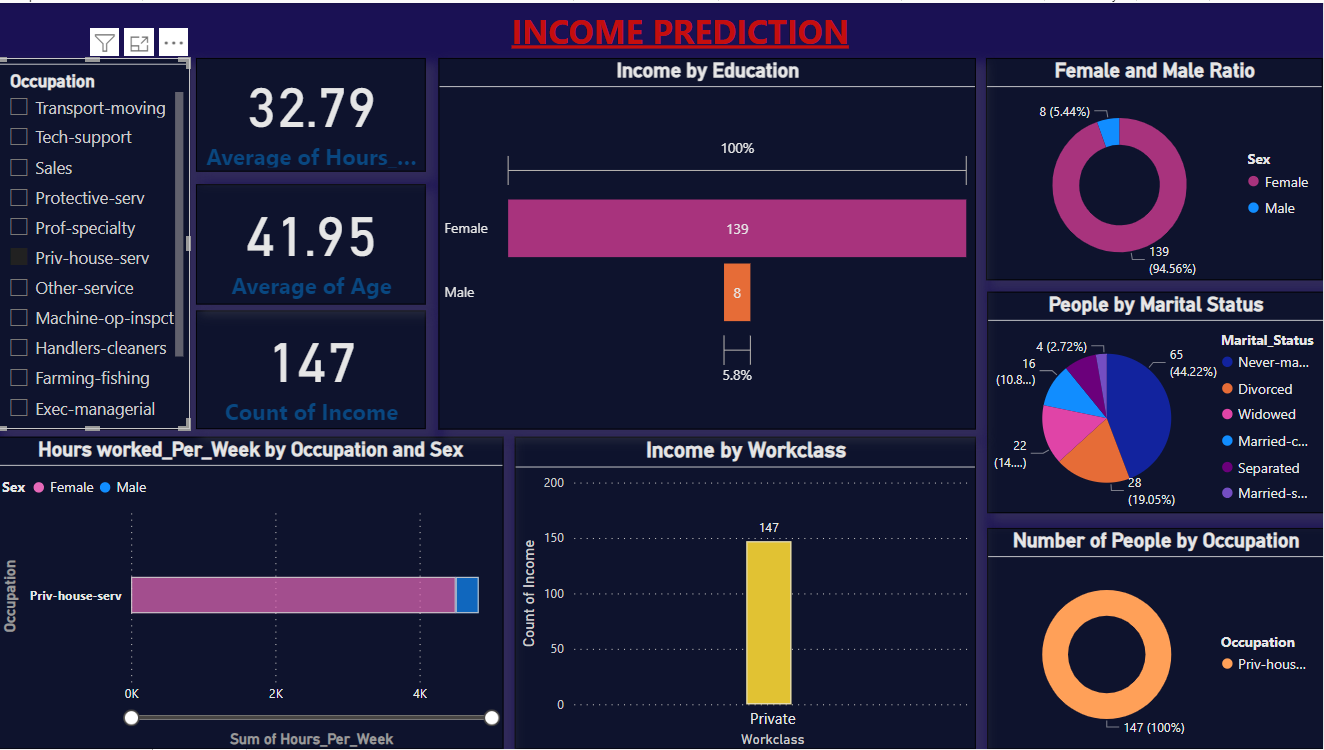

The page's visual inventory and layout, read from the dashboard file:
{"tool":"powerbi","page":{"name":"Page 1","canvas":[1280,720],"ordinal":0},"visuals":[{"type":"textbox","box":[0,0,1280.3,53.5],"z":0},{"type":"donutChart","title":"Number of People by Occupation","fields":{"Y":["CountNonNull(INCOME_DATA.Sex)"],"Category":["INCOME_DATA.Occupation"]},"box":[956.4,506.5,324.4,213.5],"z":1000},{"type":"donutChart","title":" Female and Male Ratio","fields":{"Y":["CountNonNull(INCOME_DATA.Sex)"],"Category":["INCOME_DATA.Sex"]},"box":[955.2,53.1,324.4,214.7],"z":2000},{"type":"pieChart","title":"People by  Marital Status","fields":{"Y":["CountNonNull(INCOME_DATA.Sex)"],"Category":["INCOME_DATA.Marital_Status"]},"box":[956.4,278.6,324.4,213.5],"z":3000},{"type":"columnChart","title":" Income by Workclass","fields":{"Y":["CountNonNull(INCOME_DATA.Income)"],"Category":["INCOME_DATA.Workclass"]},"box":[500.5,418.5,445,301.5],"z":3001},{"type":"slicer","fields":{"Values":["INCOME_DATA.Occupation"]},"box":[0,53.1,186.9,358.2],"z":3002},{"type":"barChart","title":" Hours worked_Per_Week by Occupation and Sex","fields":{"Series":["INCOME_DATA.Sex"],"Category":["INCOME_DATA.Occupation"],"Y":["Sum(INCOME_DATA.Hours_Per_Week)"]},"box":[0,418.5,489.6,301.5],"z":3003},{"type":"card","fields":{"Values":["CountNonNull(INCOME_DATA.Income)"]},"box":[193,296.7,221.9,114.6],"z":3004},{"type":"card","fields":{"Values":["Avg(INCOME_DATA.Age)"]},"box":[193,174.9,221.9,115.8],"z":3005},{"type":"card","fields":{"Values":["Avg(INCOME_DATA.Hours_Per_Week)"]},"box":[193,53.1,221.9,109.7],"z":3006},{"type":"funnel","title":" Income by Education","fields":{"Category":["INCOME_DATA.Education","INCOME_DATA.Occupation","INCOME_DATA.Sex"],"Y":["CountNonNull(INCOME_DATA.Income)"]},"box":[426.9,53.1,518.6,358.2],"z":3007}]}

Visuals, with their boxes on the page's 1280x720 design canvas (x1, y1, x2, y2). These are canvas units, not pixel positions in the 1324x750 screenshot, which may show the page scaled, cropped or inside an application window:
textbox: <region>0, 0, 1280, 54</region>
"Number of People by Occupation" donutChart: <region>956, 506, 1281, 720</region>
" Female and Male Ratio" donutChart: <region>955, 53, 1280, 268</region>
"People by  Marital Status" pieChart: <region>956, 279, 1281, 492</region>
" Income by Workclass" columnChart: <region>500, 418, 946, 720</region>
slicer - INCOME_DATA.Occupation: <region>0, 53, 187, 411</region>
" Hours worked_Per_Week by Occupation and Sex" barChart: <region>0, 418, 490, 720</region>
card - CountNonNull(INCOME_DATA.Income): <region>193, 297, 415, 411</region>
card - Avg(INCOME_DATA.Age): <region>193, 175, 415, 291</region>
card - Avg(INCOME_DATA.Hours_Per_Week): <region>193, 53, 415, 163</region>
" Income by Education" funnel: <region>427, 53, 946, 411</region>
